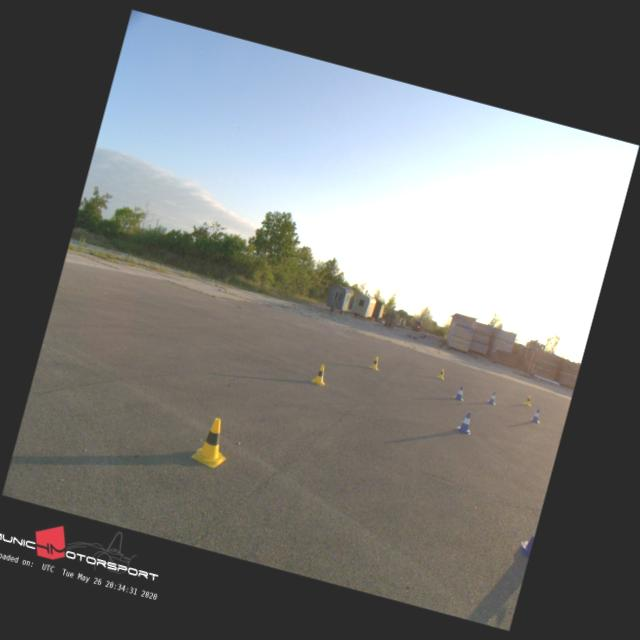blue_cone: (456, 409, 474, 433), (453, 385, 465, 400), (487, 390, 498, 404), (530, 408, 541, 422)
yellow_cone: (189, 414, 235, 469), (309, 362, 329, 386), (368, 354, 380, 370), (522, 393, 532, 406), (436, 367, 446, 379)
